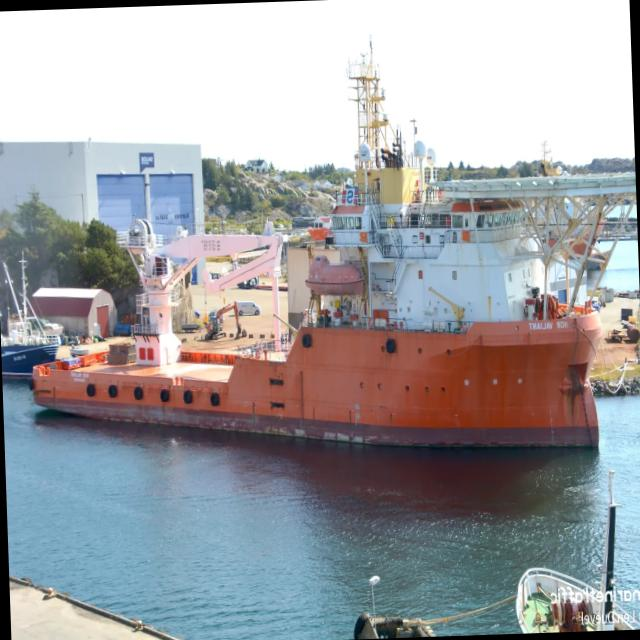Offshore: (31, 61, 636, 446)
